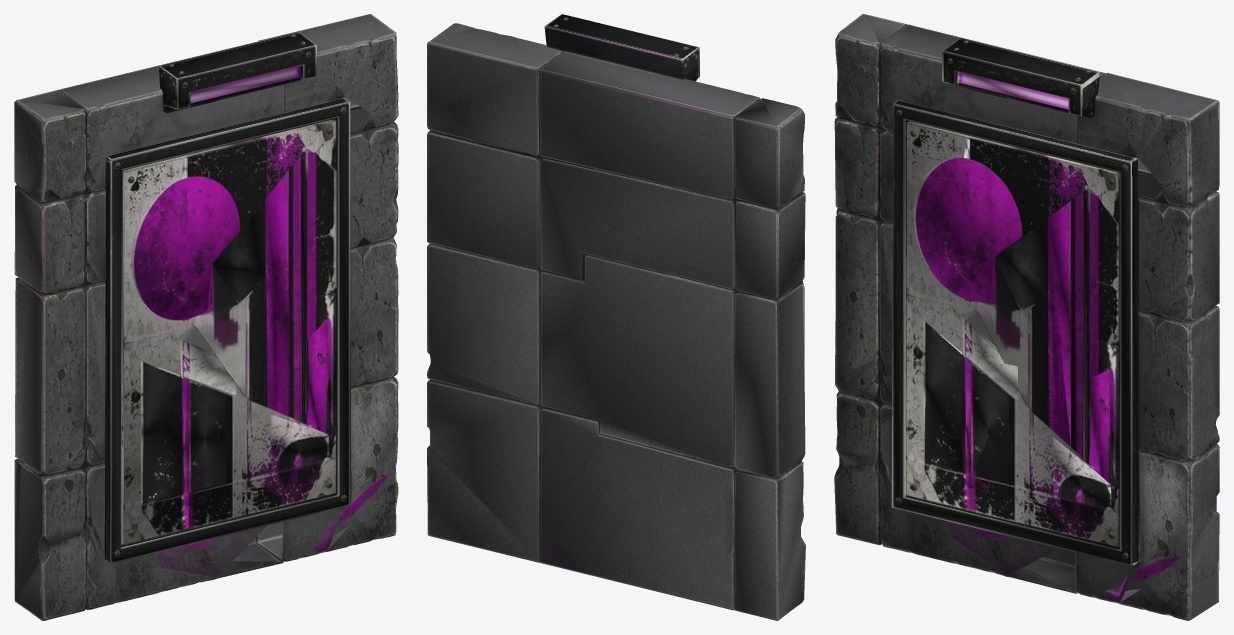
Rendered from poster_opt.glb.
3 renders of one model, left to right at view 1: azimuth 30°, elevation 25°; view 2: azimuth 150°, elevation 25°; view 3: azimuth 330°, elevation 25°, orthographic.
Bounding box in the file's own units: 0.6783 × 0.9521 × 0.1387.
Materials: 1 (1 with a texture image).
